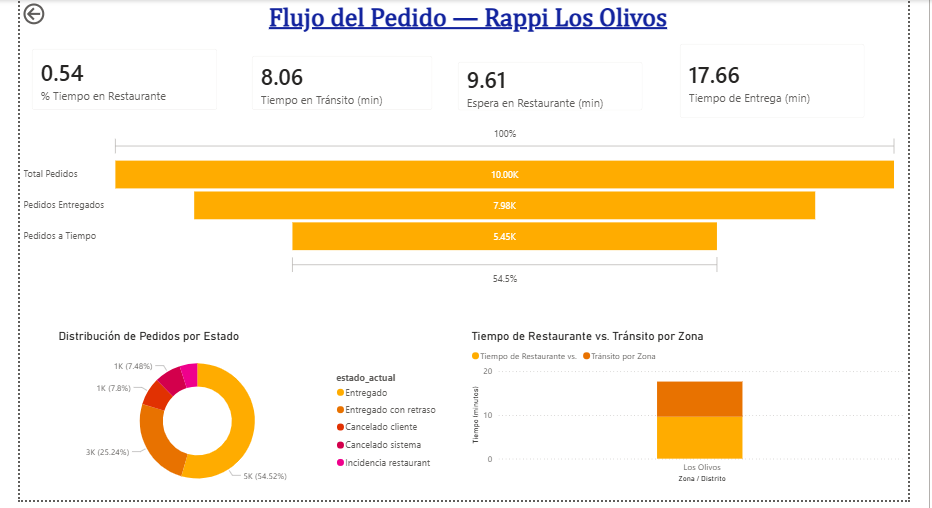

The dashboard page shown, as its layout file describes it:
{"tool":"powerbi","page":{"name":"FLUJO DEL PEDIDO","canvas":[1280,720],"ordinal":1},"visuals":[{"type":"textbox","box":[10.1,0,1270.1,63.4],"z":0},{"type":"funnel","title":"Embudo de Conversión de Pedidos ","fields":{"Category":["Tabla Embudo.Etapa"],"Y":["Tabla Embudo.Valor_Embudo"]},"box":[0,157.1,1268.6,258.6],"z":1000},{"type":"donutChart","title":"Distribución de Pedidos por Estado ","fields":{"Category":["datamart_rappi dim_estado_pedido.estado_actual"],"Y":["datamart_rappi fact_pedidos.Total_Pedidos"]},"box":[50,474.3,562.9,245.7],"z":2000},{"type":"actionButton","box":[0,0,100,40],"z":3000},{"type":"columnChart","title":"Tiempo de Restaurante vs. Tránsito por Zona","fields":{"Category":["datamart_rappi dim_zona.distrito"],"Y":["datamart_rappi fact_pedidos.KPI4_Espera_Restaurante","datamart_rappi fact_pedidos.Tiempo_en_Transito"]},"box":[645.7,474.3,634.3,225.7],"z":4000},{"type":"cardVisual","fields":{"Data":["datamart_rappi fact_pedidos.Tiempo_en_Restaurante"]},"box":[0,52.9,301.4,122.9],"z":5000},{"type":"cardVisual","fields":{"Data":["datamart_rappi fact_pedidos.Tiempo_en_Transito"]},"box":[317.1,62.9,294.3,112.9],"z":6000},{"type":"cardVisual","fields":{"Data":["datamart_rappi fact_pedidos.KPI4_Espera_Restaurante"]},"box":[612.9,71.4,300,104.3],"z":7000},{"type":"cardVisual","fields":{"Data":["datamart_rappi fact_pedidos.KPI5_Tiempo_Entrega"]},"box":[932.9,45.7,300,141.4],"z":8000}]}

Visuals, with their boxes on the page's 1280x720 design canvas (x1, y1, x2, y2). These are canvas units, not pixel positions in the 932x508 screenshot, which may show the page scaled, cropped or inside an application window:
textbox: <region>10, 0, 1280, 63</region>
"Embudo de Conversión de Pedidos " funnel: <region>0, 157, 1269, 416</region>
"Distribución de Pedidos por Estado " donutChart: <region>50, 474, 613, 720</region>
actionButton: <region>0, 0, 100, 40</region>
"Tiempo de Restaurante vs. Tránsito por Zona" columnChart: <region>646, 474, 1280, 700</region>
cardVisual - datamart_rappi fact_pedidos.Tiempo_en_Restaurante: <region>0, 53, 301, 176</region>
cardVisual - datamart_rappi fact_pedidos.Tiempo_en_Transito: <region>317, 63, 611, 176</region>
cardVisual - datamart_rappi fact_pedidos.KPI4_Espera_Restaurante: <region>613, 71, 913, 176</region>
cardVisual - datamart_rappi fact_pedidos.KPI5_Tiempo_Entrega: <region>933, 46, 1233, 187</region>
